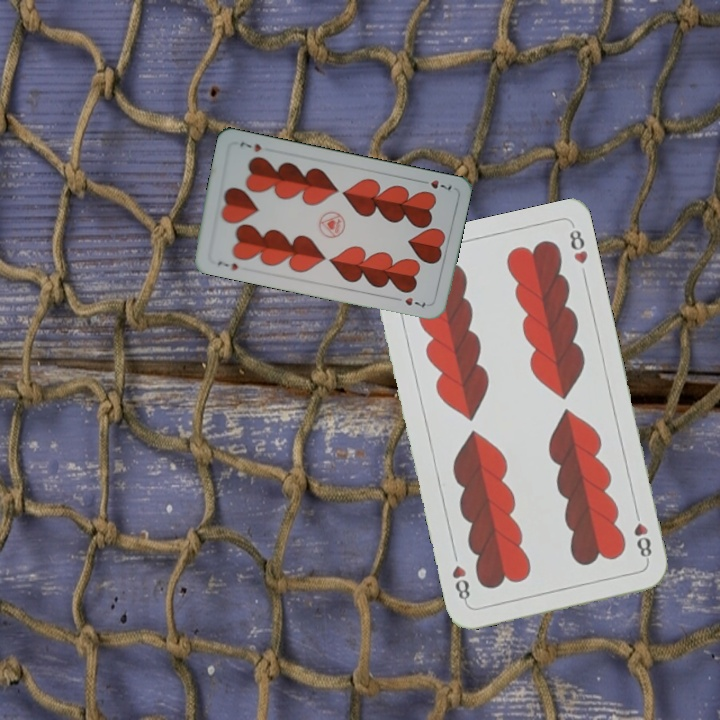H7: (416, 176, 454, 193), (213, 257, 241, 273)
H8: (630, 506, 654, 564)
